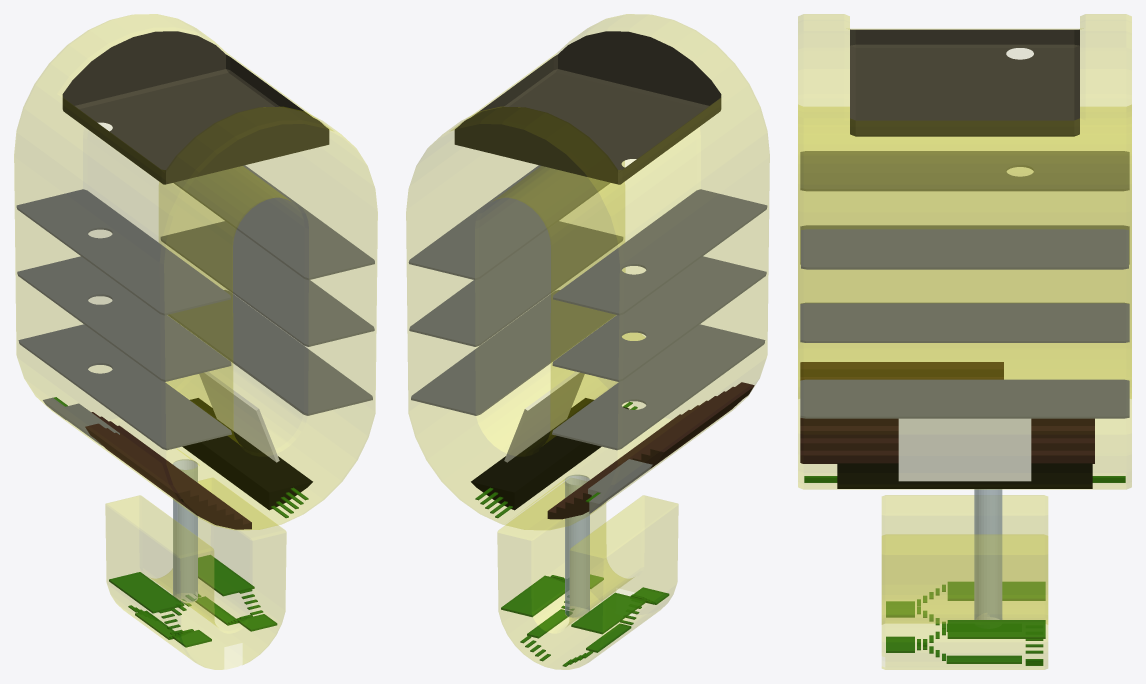
The model's file is obita_base_1.2-transparent.glb.
3 views of the same model, side by side, from view 1: azimuth 30°, elevation 25°; view 2: azimuth 150°, elevation 25°; view 3: azimuth 270°, elevation 25° (orthographic). The views are drawn at different scales.
Visible parts, largest first — view 1: O, club, u, Cube.007, Cube.008, Cube.006, Cube.013, Cube.012, lift, Cube.010, Cube.005, Cube.004 (+1 smaller); view 2: O, club, u, Cube.007, Cube.008, Cube.006, Cube.013, Cube.012, lift, Cube.010, Cube.005, Cube.004 (+1 smaller); view 3: O, u, Cube.008, club, Cube.007, Cube.006, Cube.012, Cube.010, Cube.013, lift, Cube.004, Cube.005 (+1 smaller).
Part boxes in pixels (left/top/right/bottom): O: left=14, top=14, right=377, bottom=529; club: left=62, top=31, right=329, bottom=184; u: left=105, top=478, right=286, bottom=669; Cube.007: left=17, top=221, right=374, bottom=381; Cube.008: left=16, top=165, right=374, bottom=315; Cube.006: left=18, top=290, right=372, bottom=450; Cube.013: left=182, top=398, right=312, bottom=510; Cube.012: left=85, top=412, right=251, bottom=529; lift: left=173, top=459, right=197, bottom=602; Cube.010: left=199, top=371, right=279, bottom=462; Cube.005: left=109, top=572, right=184, bottom=613; Cube.004: left=198, top=555, right=254, bottom=596; O: left=406, top=14, right=769, bottom=529; club: left=454, top=31, right=721, bottom=184; u: left=497, top=482, right=678, bottom=669; Cube.007: left=409, top=221, right=766, bottom=381; Cube.008: left=408, top=165, right=767, bottom=315; Cube.006: left=411, top=290, right=765, bottom=450; Cube.013: left=471, top=398, right=629, bottom=510; Cube.012: left=547, top=382, right=754, bottom=519; lift: left=565, top=475, right=589, bottom=618; Cube.010: left=504, top=371, right=584, bottom=462; Cube.005: left=571, top=592, right=646, bottom=634; Cube.004: left=501, top=575, right=564, bottom=617; O: left=798, top=14, right=1131, bottom=489; u: left=881, top=495, right=1048, bottom=669; Cube.008: left=800, top=151, right=1129, bottom=269; club: left=850, top=29, right=1079, bottom=136; Cube.007: left=800, top=225, right=1129, bottom=342; Cube.006: left=800, top=302, right=1129, bottom=418; Cube.012: left=800, top=362, right=1094, bottom=463; Cube.010: left=898, top=418, right=1031, bottom=481; Cube.013: left=837, top=463, right=1092, bottom=488; lift: left=974, top=489, right=1002, bottom=619; Cube.004: left=947, top=620, right=1045, bottom=638; Cube.005: left=948, top=582, right=1045, bottom=600.
Size of what is drawn, in the model's own units: 33.63 by 84.45 by 40.15.
